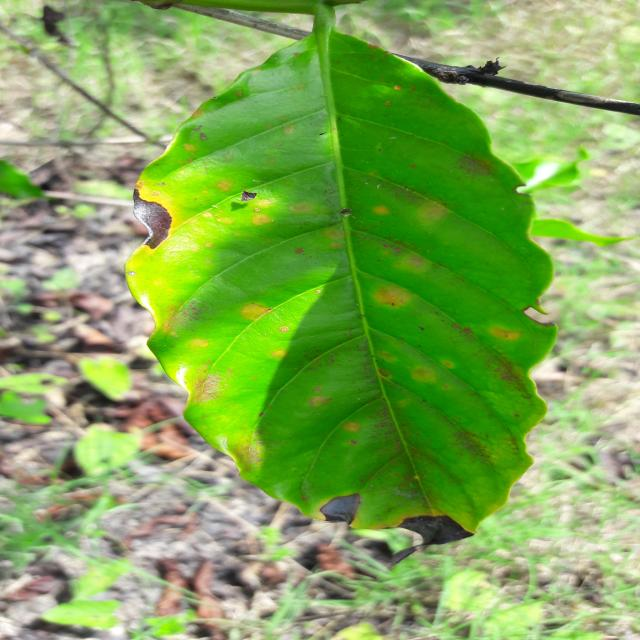Enfermedad-Roya: (123, 0, 559, 538)
